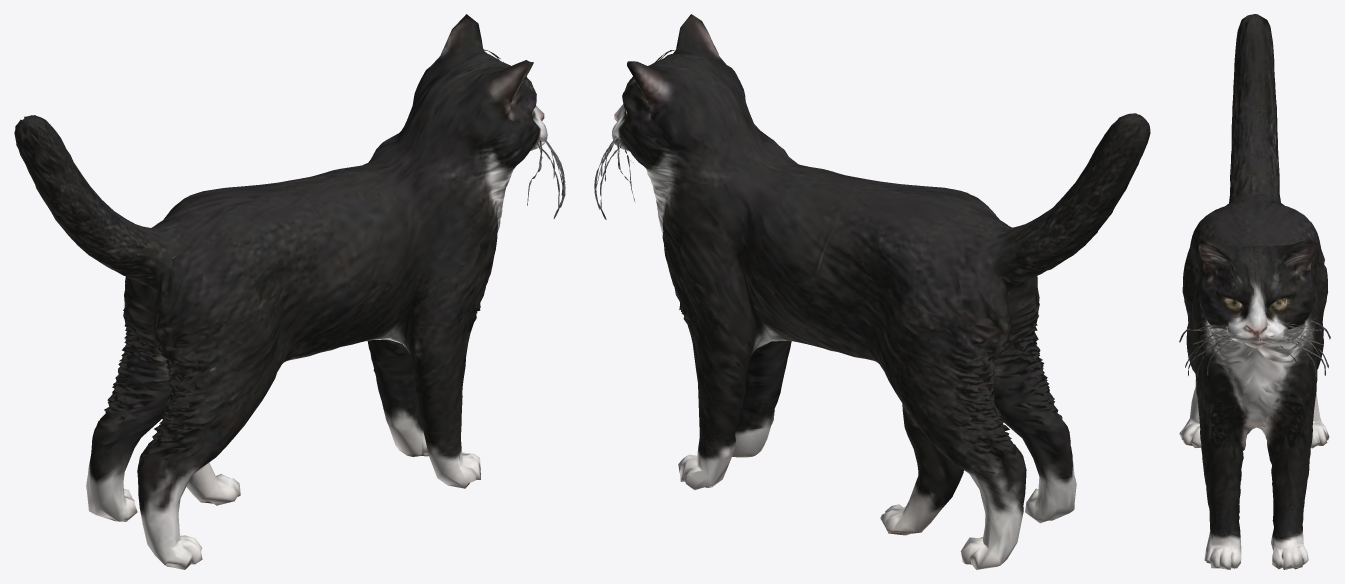
The model's file is PROFMEOW-lo.glb.
The picture shows the model from 3 angles, left to right: view 1: azimuth 30°, elevation 25°; view 2: azimuth 150°, elevation 25°; view 3: azimuth 270°, elevation 25°; orthographic projection. The views are drawn at different scales.
Parts seen in each view (by area): view 1: tripo_node_3f8ab2e7-9dab-4a76-a386-d2e692494375; view 2: tripo_node_3f8ab2e7-9dab-4a76-a386-d2e692494375; view 3: tripo_node_3f8ab2e7-9dab-4a76-a386-d2e692494375.
Boxes of the visible parts, x1,y1,x2,y2 form: tripo_node_3f8ab2e7-9dab-4a76-a386-d2e692494375: [14, 14, 565, 569]; tripo_node_3f8ab2e7-9dab-4a76-a386-d2e692494375: [594, 14, 1150, 569]; tripo_node_3f8ab2e7-9dab-4a76-a386-d2e692494375: [1179, 14, 1330, 569].
Size of the model in its own units: 1.23 by 0.9993 by 0.3611.
1 material, 1 textured.
